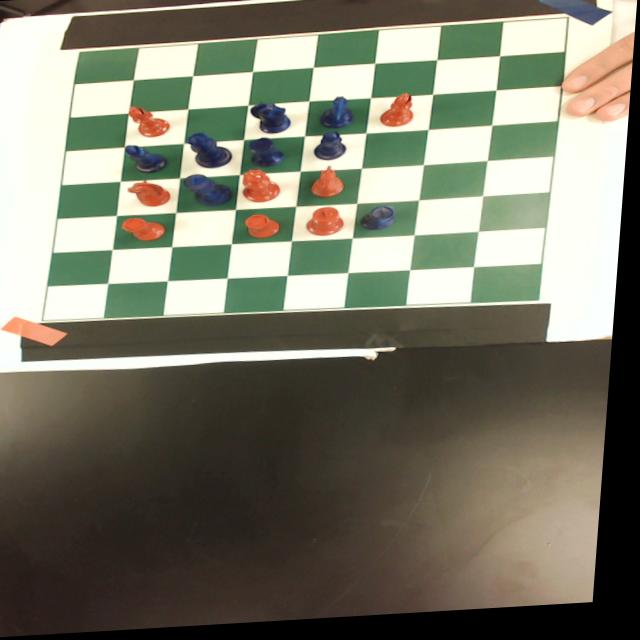B: (123, 144, 172, 176), (314, 132, 352, 166)
K: (182, 173, 240, 209)
N: (248, 100, 296, 139), (318, 96, 360, 133)
Q: (184, 131, 238, 172)
R: (247, 138, 290, 172), (362, 208, 404, 235)
b: (125, 105, 175, 140), (378, 96, 420, 133)
k: (307, 209, 351, 241)
n: (128, 179, 177, 210), (310, 167, 353, 202)
q: (242, 170, 286, 207)
r: (122, 217, 172, 244), (247, 215, 284, 243)
